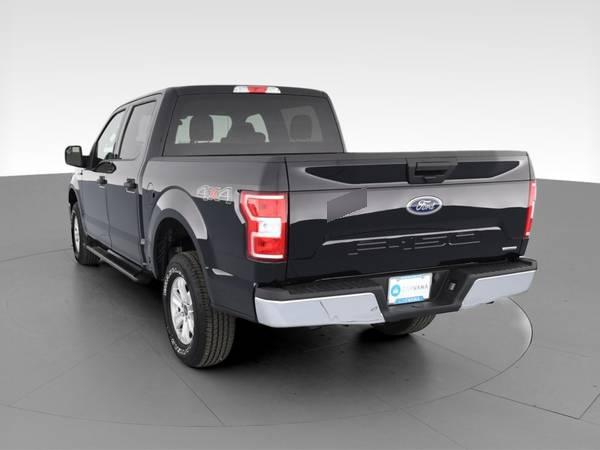Front_Left_Door: (78, 161, 112, 249)
Front_Left_Window: (85, 108, 128, 161)
Left_Taillight: (238, 188, 290, 263)
Rear_Bumper: (253, 255, 535, 327)
Rear_Fender: (141, 155, 288, 321)
Rear_Left_Door: (106, 161, 147, 270)
Rear_Left_Window: (113, 91, 164, 161)
Rear_Windshield: (145, 88, 344, 158)
Tailgate: (286, 154, 535, 284)
Wheel: (157, 249, 234, 366), (67, 207, 101, 267)
